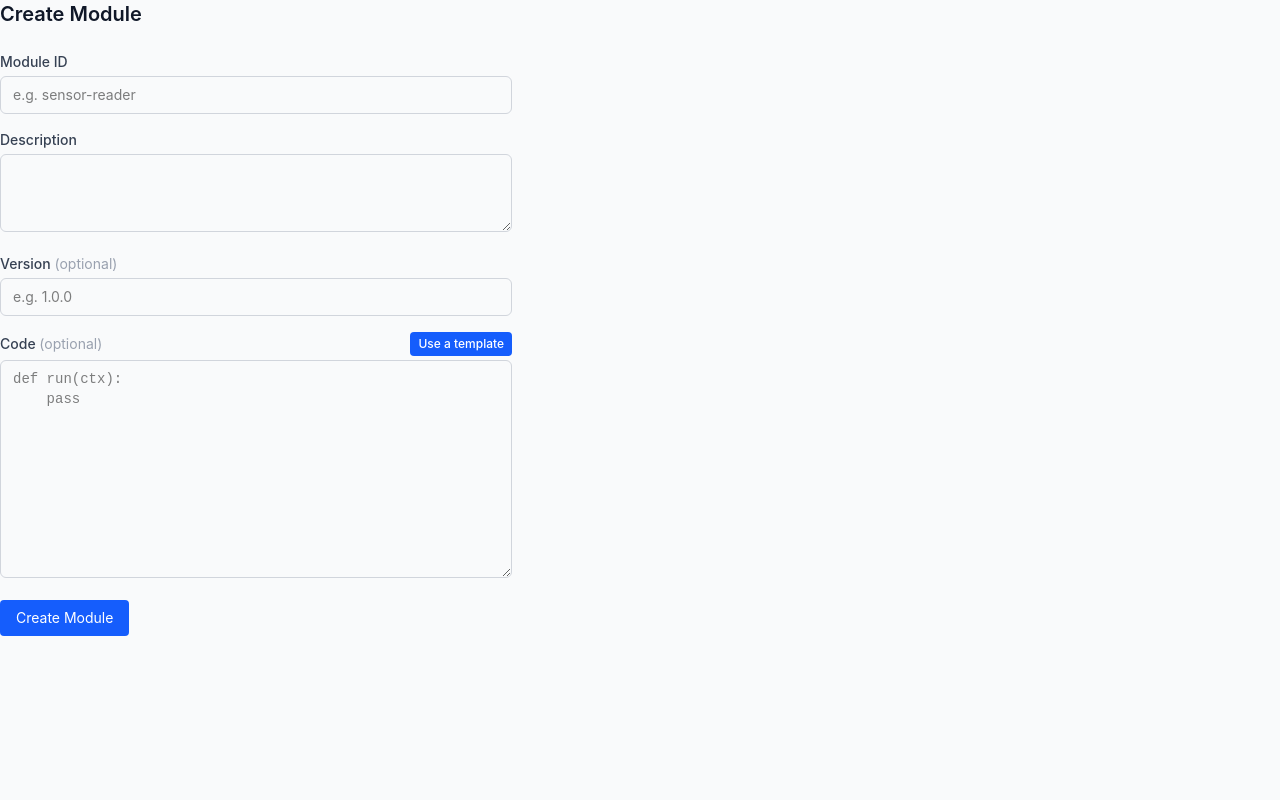
Scenario: ModuleCreatePage › opens the template picker and inserts selected template code and version
Click the button "Use a template" at (461, 344), box [410,332,512,356]
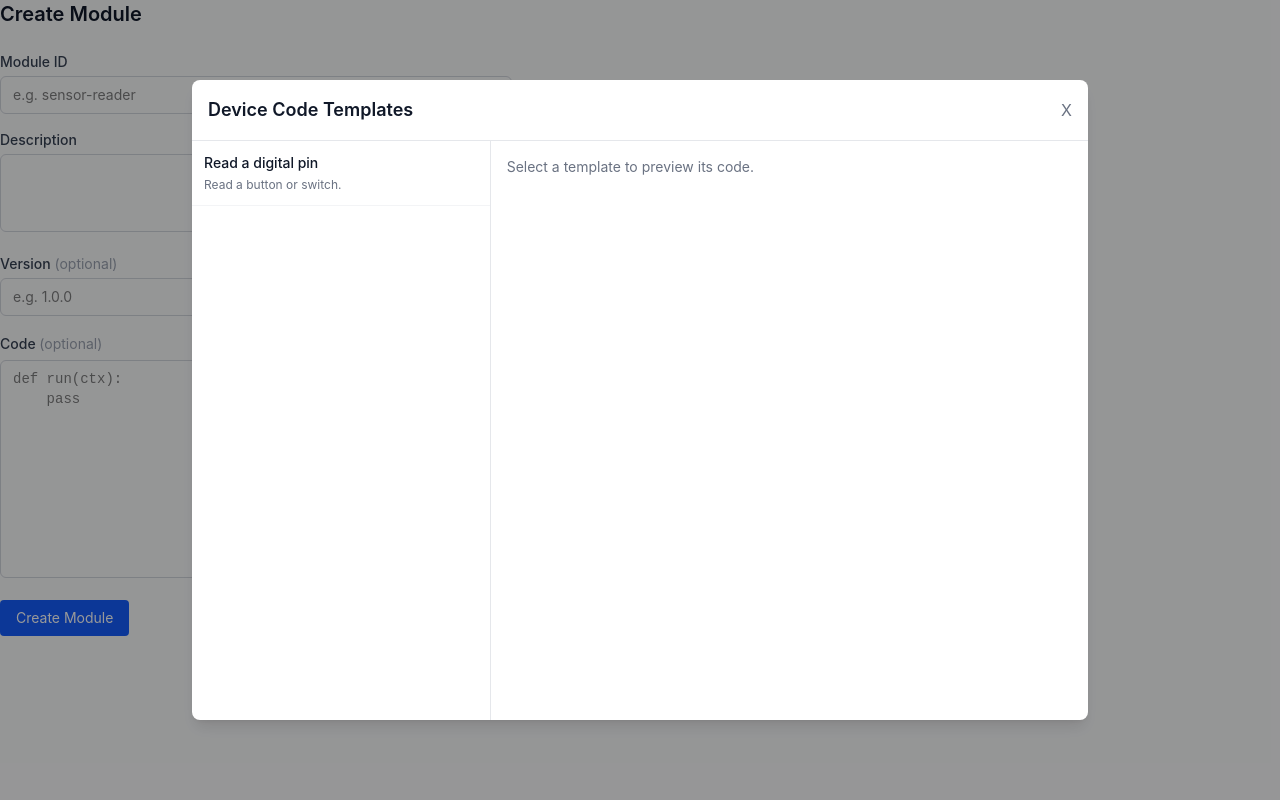
Check: the text "Read a digital pin" is shown
Click the text "Read a digital pin" at (261, 162), box [204,154,318,171]
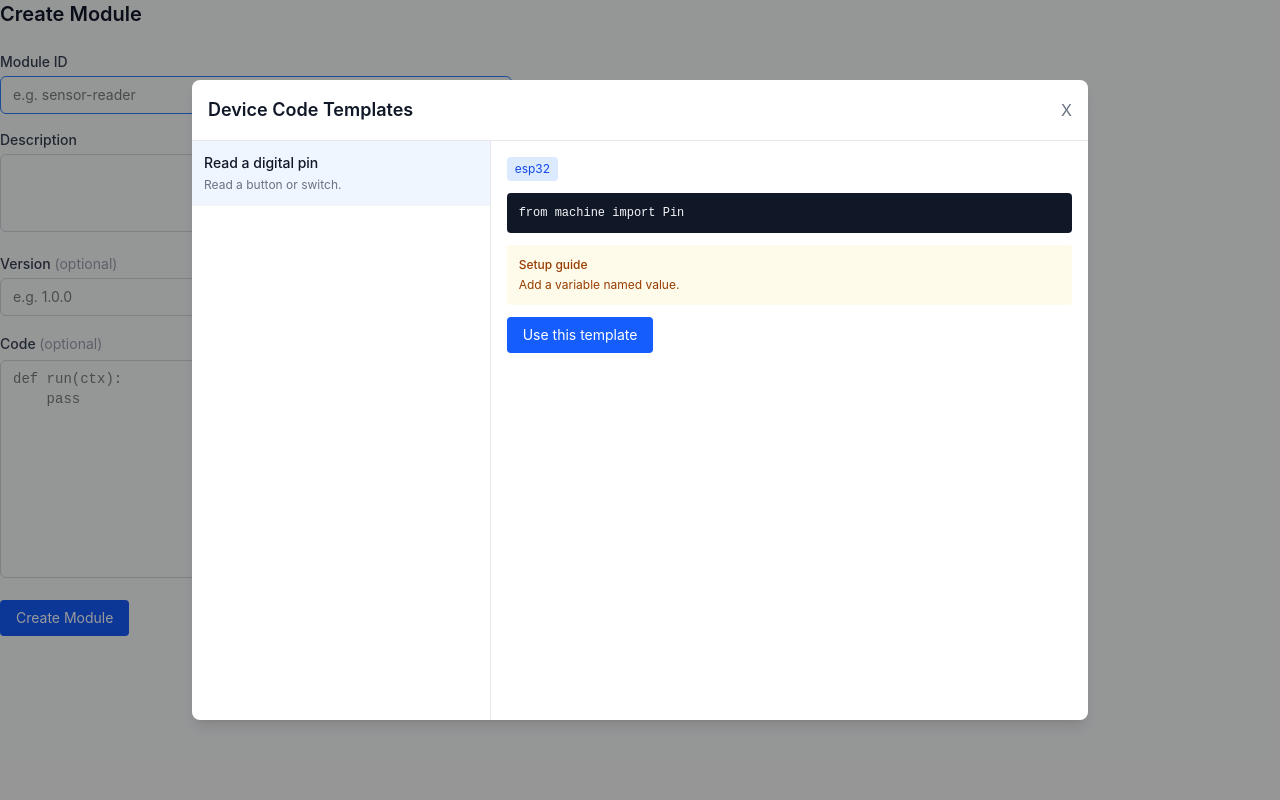
Check: the button "Use this template" is shown
Click the button "Use this template" at (580, 335), box [507,317,654,353]
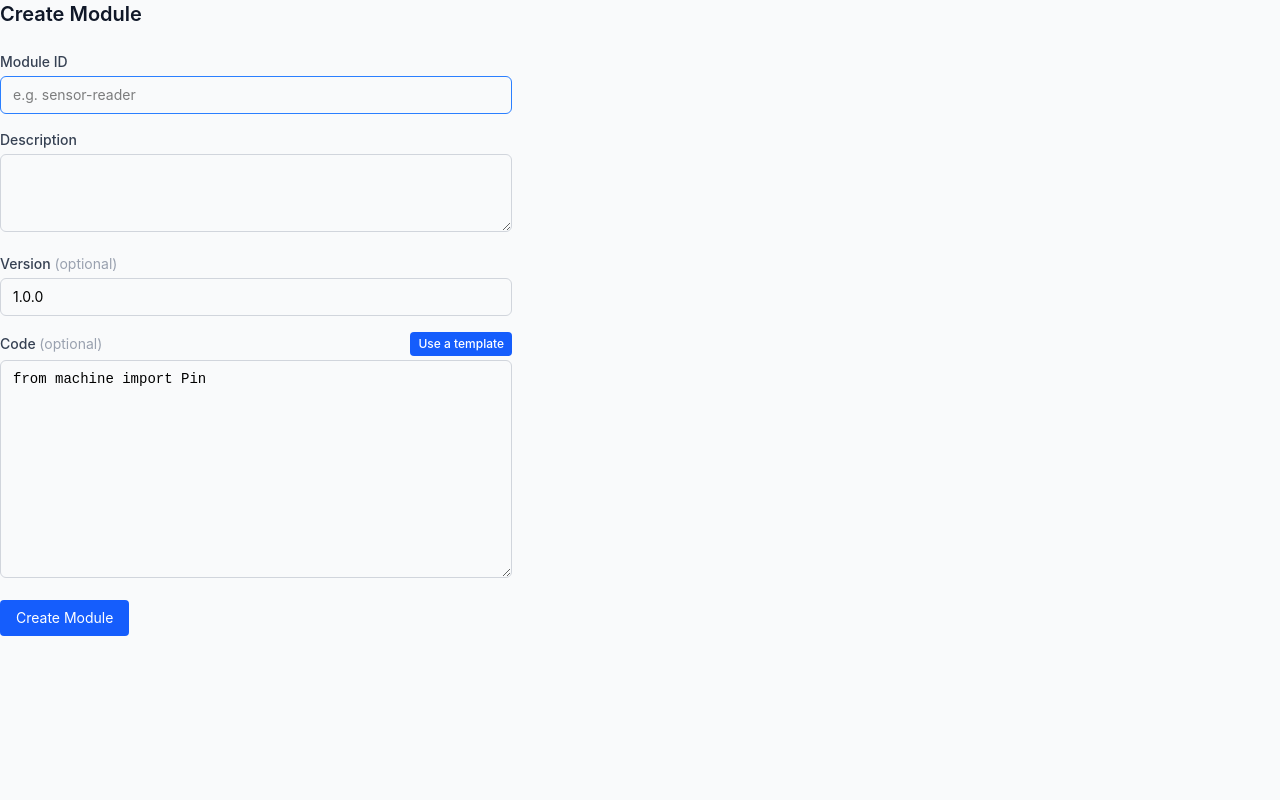
Check: the field showing "1.0.0" is shown, box [0,278,512,316]
Check: the text box showing "from machine import Pin" below "Code" is shown, box [0,360,512,578]
